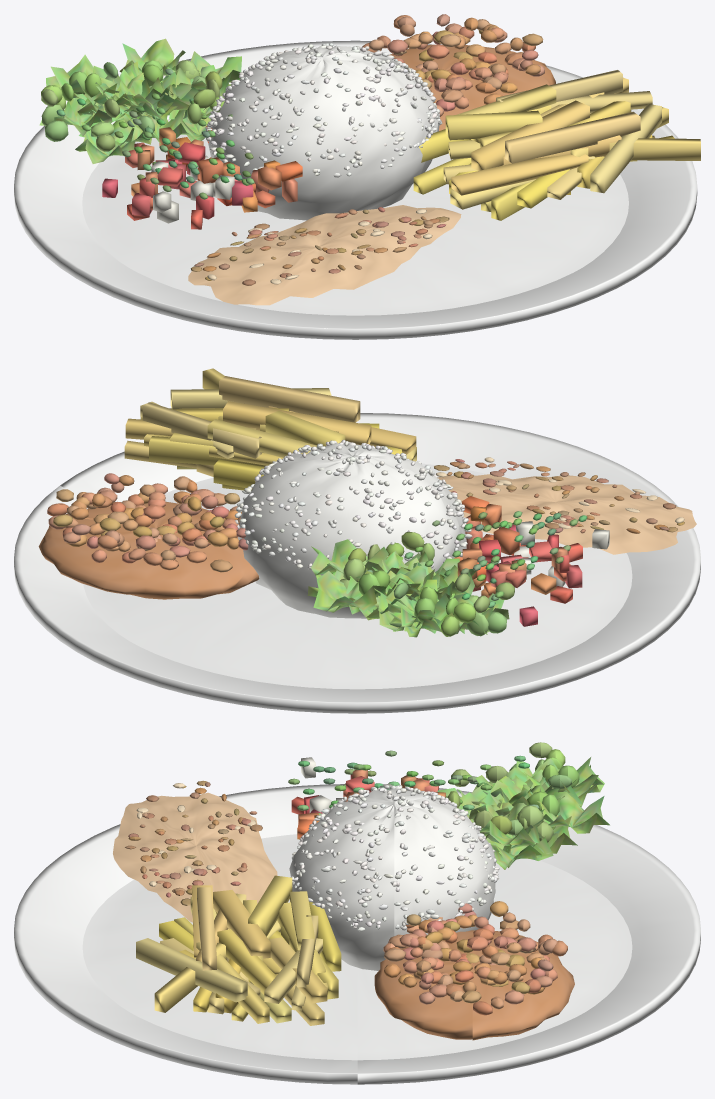
The model's file is prato-executivo-reconstruido.glb.
The picture shows the model from 3 angles, top to bottom: view 1: azimuth 30°, elevation 25°; view 2: azimuth 150°, elevation 25°; view 3: azimuth 270°, elevation 25°; orthographic projection.
Visible parts, largest first — view 1: Illustrative executive food plate; view 2: Illustrative executive food plate; view 3: Illustrative executive food plate.
Part boxes in pixels (x1,y1,x2,y2): Illustrative executive food plate: (14, 14, 700, 339); Illustrative executive food plate: (14, 368, 700, 713); Illustrative executive food plate: (14, 742, 700, 1084).
Size of the model in its own units: 0.298 by 0.0812 by 0.298.
